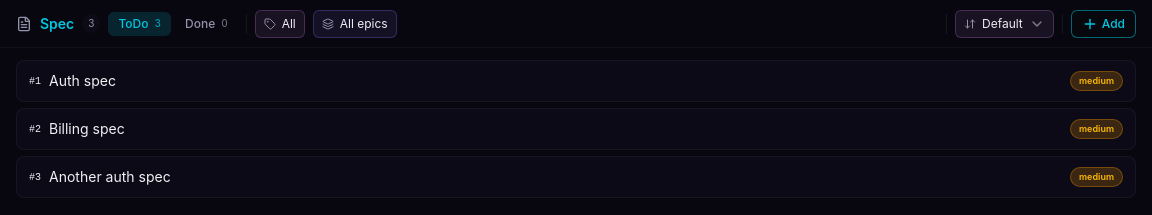
it: SpecsBoard epic filter › shows the epic filter and filters the board to the chosen epic
Expected: the text "Auth spec" is shown, x1=49 y1=72 x2=116 y2=89
Expected: the text "Billing spec" is shown, x1=49 y1=120 x2=125 y2=137
# Open the epic dropdown and pick the Authentication epic.
Step 1. Click the button with test id "spec-epic-filter-dropdown" → (355, 24), box x1=313 y1=10 x2=397 y2=38
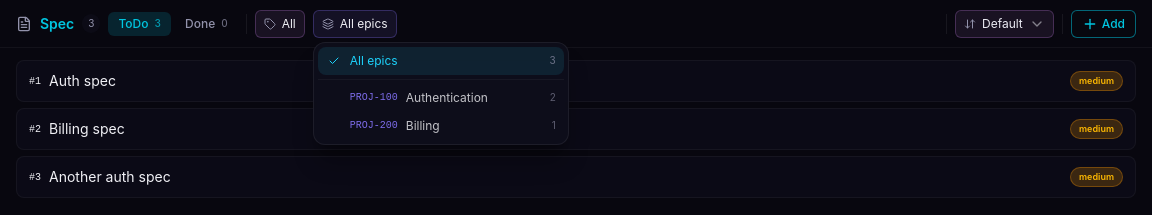
Step 2. Click the option "PROJ-100 Authentication 2" → (441, 98), box x1=318 y1=84 x2=564 y2=112
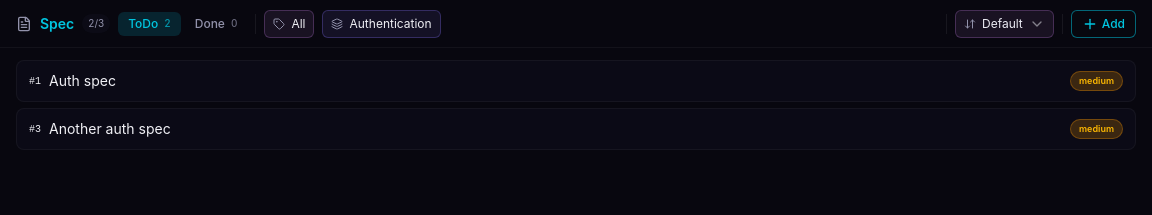
Expected: the text "Auth spec" is shown, x1=49 y1=72 x2=116 y2=89
Expected: the button "Billing spec" is gone
Expected: the tab with test id "specs-tab-todo" shows "2", x1=118 y1=12 x2=181 y2=36
